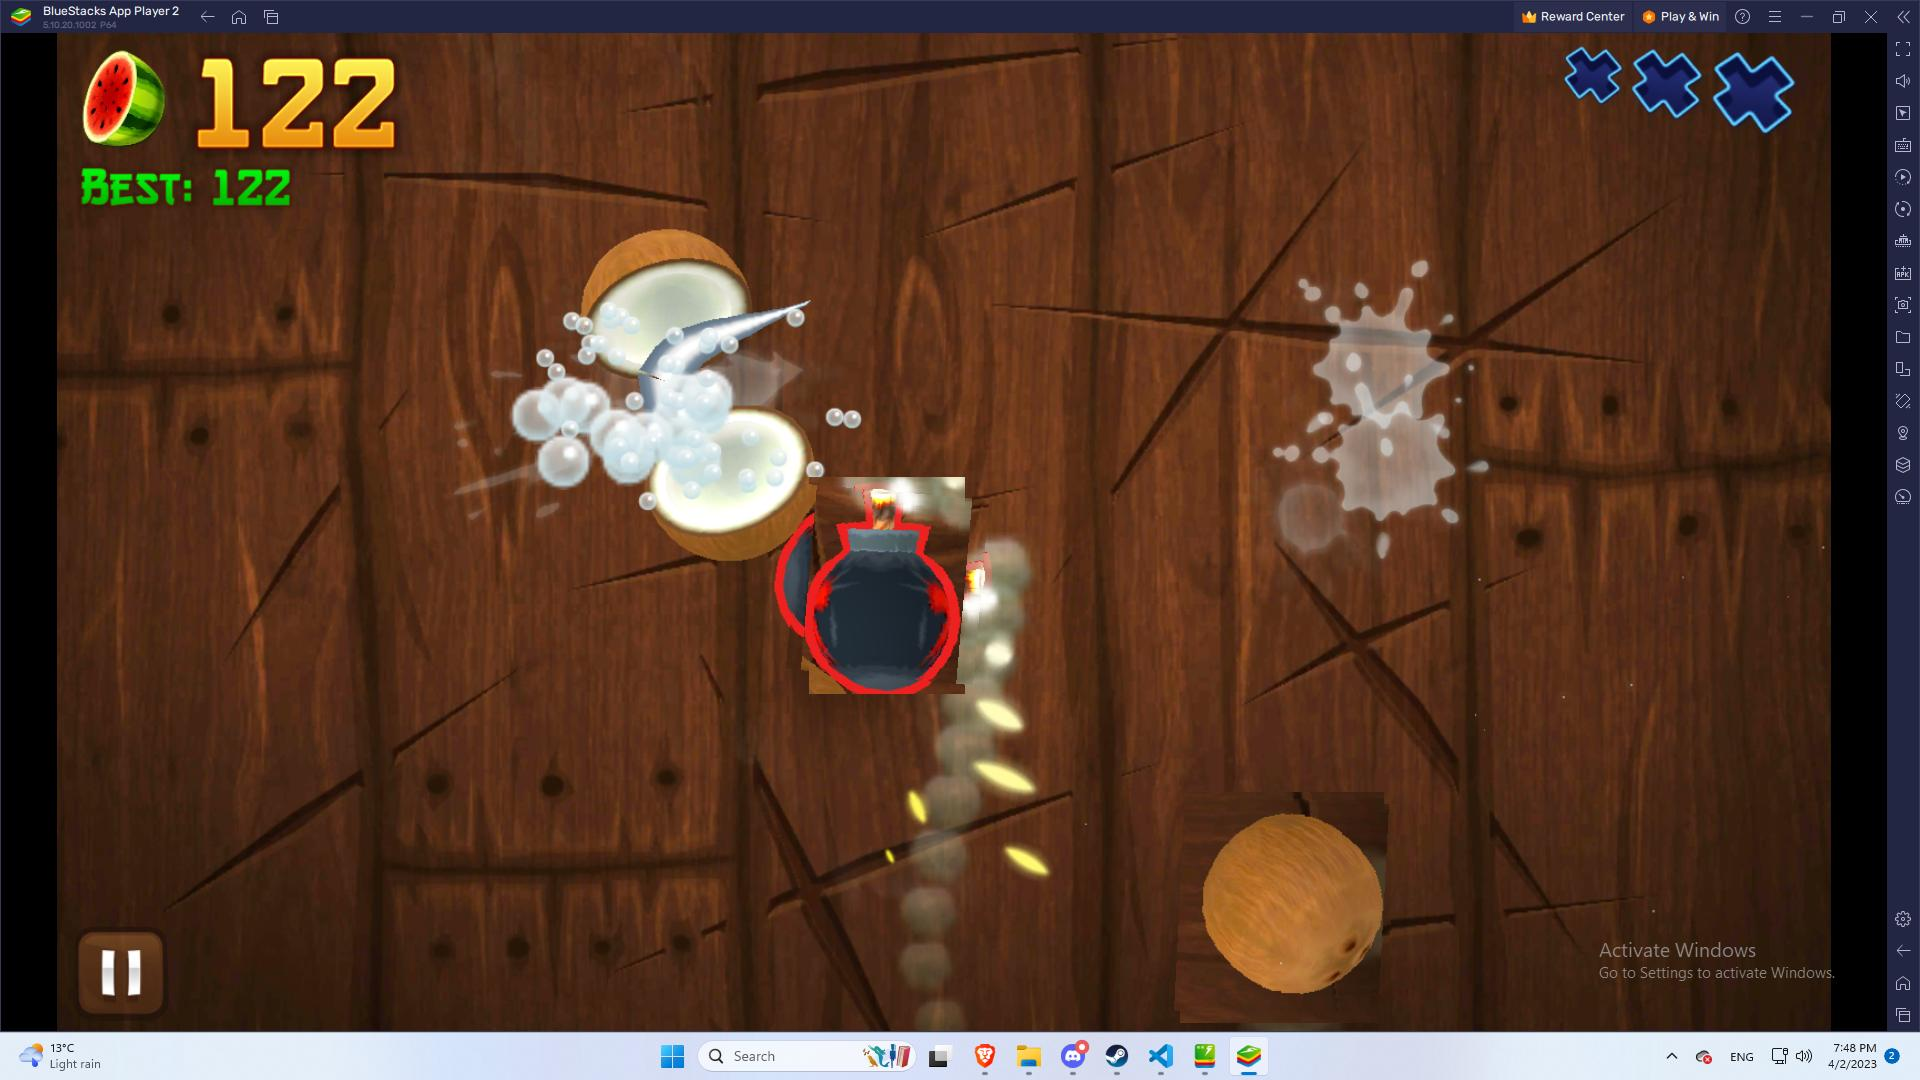bomb: (790, 488, 985, 682)
fruit: (1171, 796, 1395, 1019)
